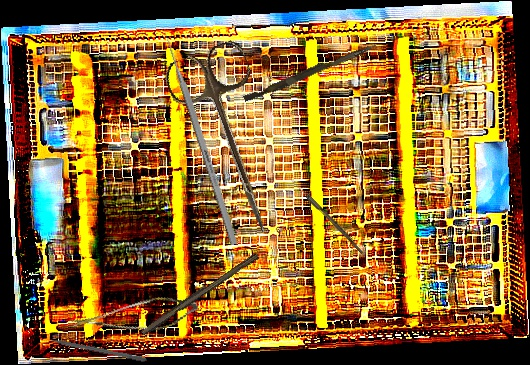Iris Scissors: (160, 37, 307, 246)
Micro Scissor: (70, 279, 201, 357)
Pusher: (159, 24, 239, 246), (243, 38, 377, 106), (36, 333, 148, 363)
Scalpel Handle: (139, 249, 260, 338)
Surgical Spoon: (285, 174, 366, 255)
